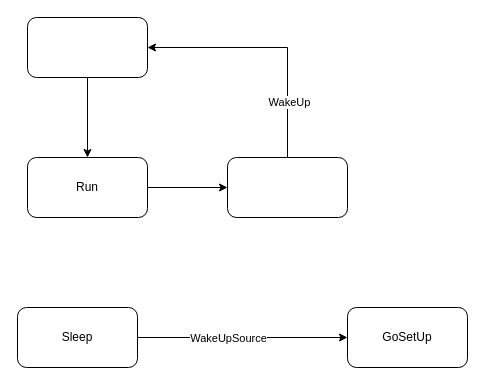
Image size: 485x385. Some labels were removed from this diagram. The shapes that lost their labels are listed below. From the top down, each one's box as (x1, y1, x2, y2) in pixels, then its label:
(26, 16, 148, 78): SetUp (Init)
(226, 156, 348, 218): Sleep-Halt
